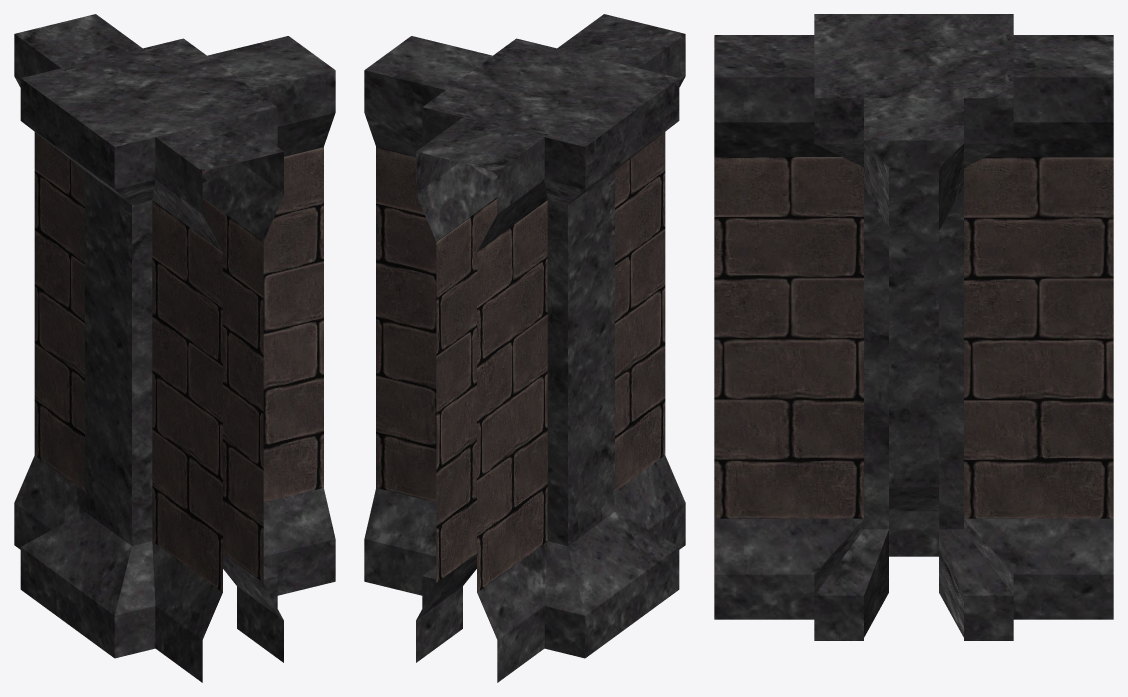
3 renders of one model, left to right at view 1: azimuth 30°, elevation 25°; view 2: azimuth 150°, elevation 25°; view 3: azimuth 270°, elevation 25°, orthographic. The views are drawn at different scales.
Parts seen in each view (by area): view 1: Bk_T; view 2: Bk_T; view 3: Bk_T.
Boxes of the visible parts, box(x1,y1,x2,y2) form: Bk_T: box(14, 14, 335, 682); Bk_T: box(364, 14, 685, 682); Bk_T: box(714, 14, 1113, 640).
Bounding box in the file's own units: 1.5 × 3 × 2.
1 material, 1 textured.
